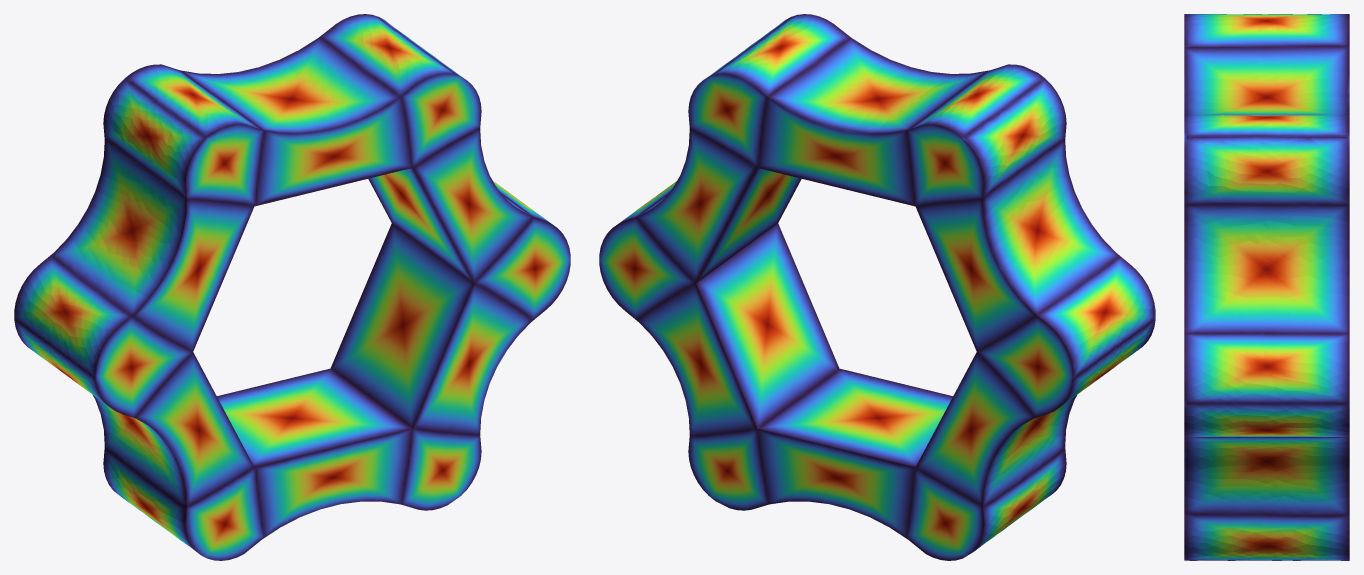
File: gen1.glb
3 views of the same model, side by side, from view 1: azimuth 30°, elevation 25°; view 2: azimuth 150°, elevation 25°; view 3: azimuth 270°, elevation 25° (orthographic).
Visible parts, largest first — view 1: Node; view 2: Node; view 3: Node.
Boxes of the visible parts, box(x1,y1,x2,y2) form: Node: box(14, 14, 570, 560); Node: box(599, 14, 1155, 560); Node: box(1184, 14, 1349, 560).
Size of the model in its own units: 23.98 by 20.97 by 7.2.
1 material, 1 textured.
